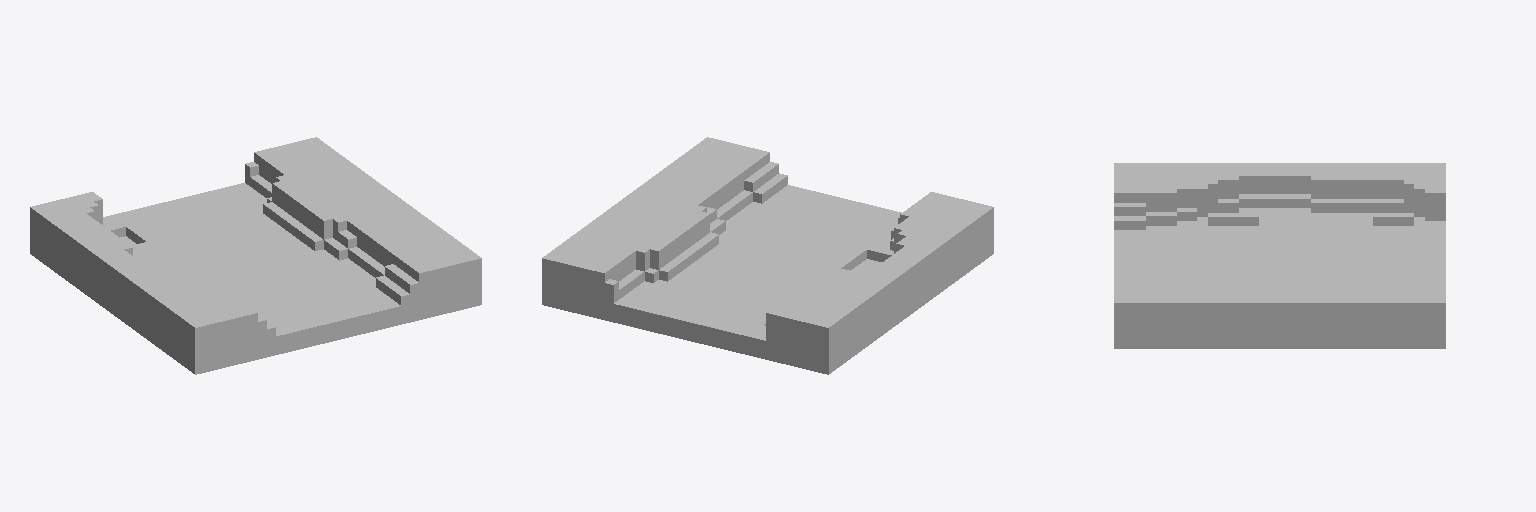
Rendered from Plaines Map-30.obj.
3 views of the same model, side by side, from view 1: azimuth 30°, elevation 25°; view 2: azimuth 150°, elevation 25°; view 3: azimuth 270°, elevation 25° (orthographic).
Parts seen in each view (by area): view 1: object 1; view 2: object 1; view 3: object 1.
Part boxes in pixels (bbox=[...]): object 1: bbox=[30, 137, 481, 374]; object 1: bbox=[542, 137, 993, 374]; object 1: bbox=[1114, 163, 1445, 348].
Size of the model in its own units: 3.2 by 0.5 by 3.2.